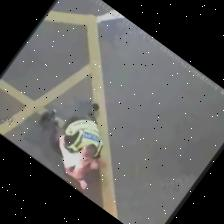person: (57, 101, 101, 189)
